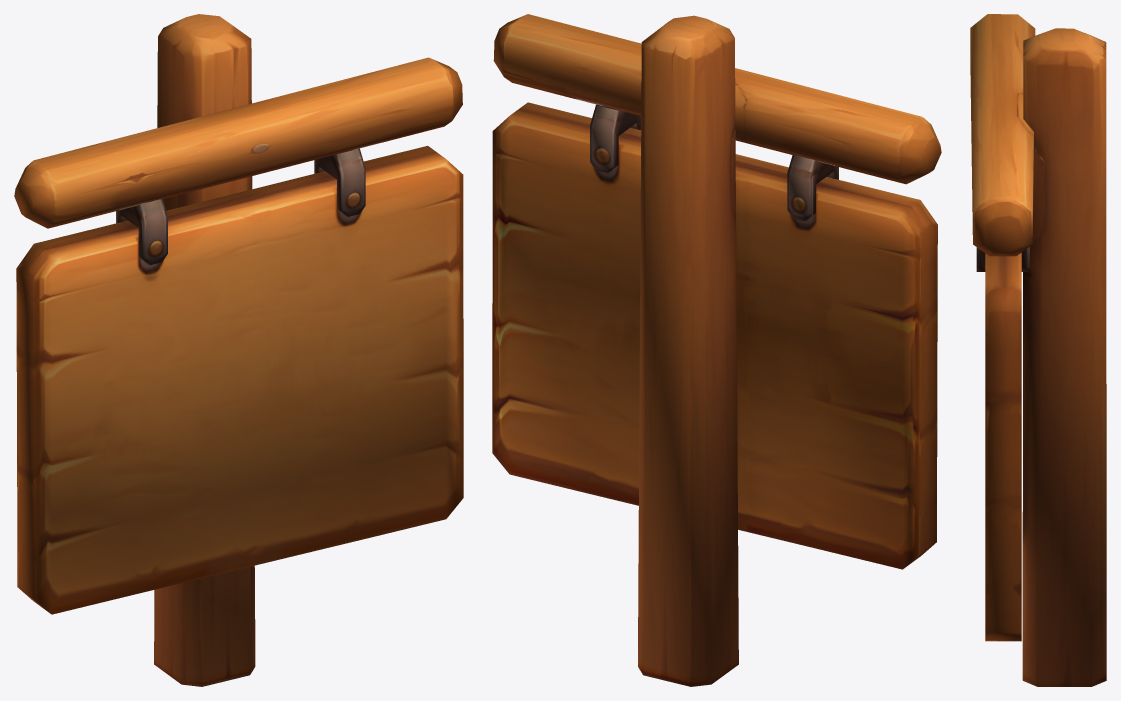
The model's file is billboard.glb.
The picture shows the model from 3 angles, left to right: view 1: azimuth 30°, elevation 25°; view 2: azimuth 150°, elevation 25°; view 3: azimuth 270°, elevation 25°; orthographic projection.
Visible parts, largest first — view 1: owner.001; view 2: owner.001; view 3: owner.001.
Boxes of the visible parts, box(x1,y1,x2,y2) form: owner.001: box(14, 14, 463, 686); owner.001: box(492, 14, 941, 686); owner.001: box(970, 14, 1106, 686).
Size of what is drawn, in the model's own units: 2.88 by 4.09 by 0.8001.
Materials: 1 (1 with a texture image).
